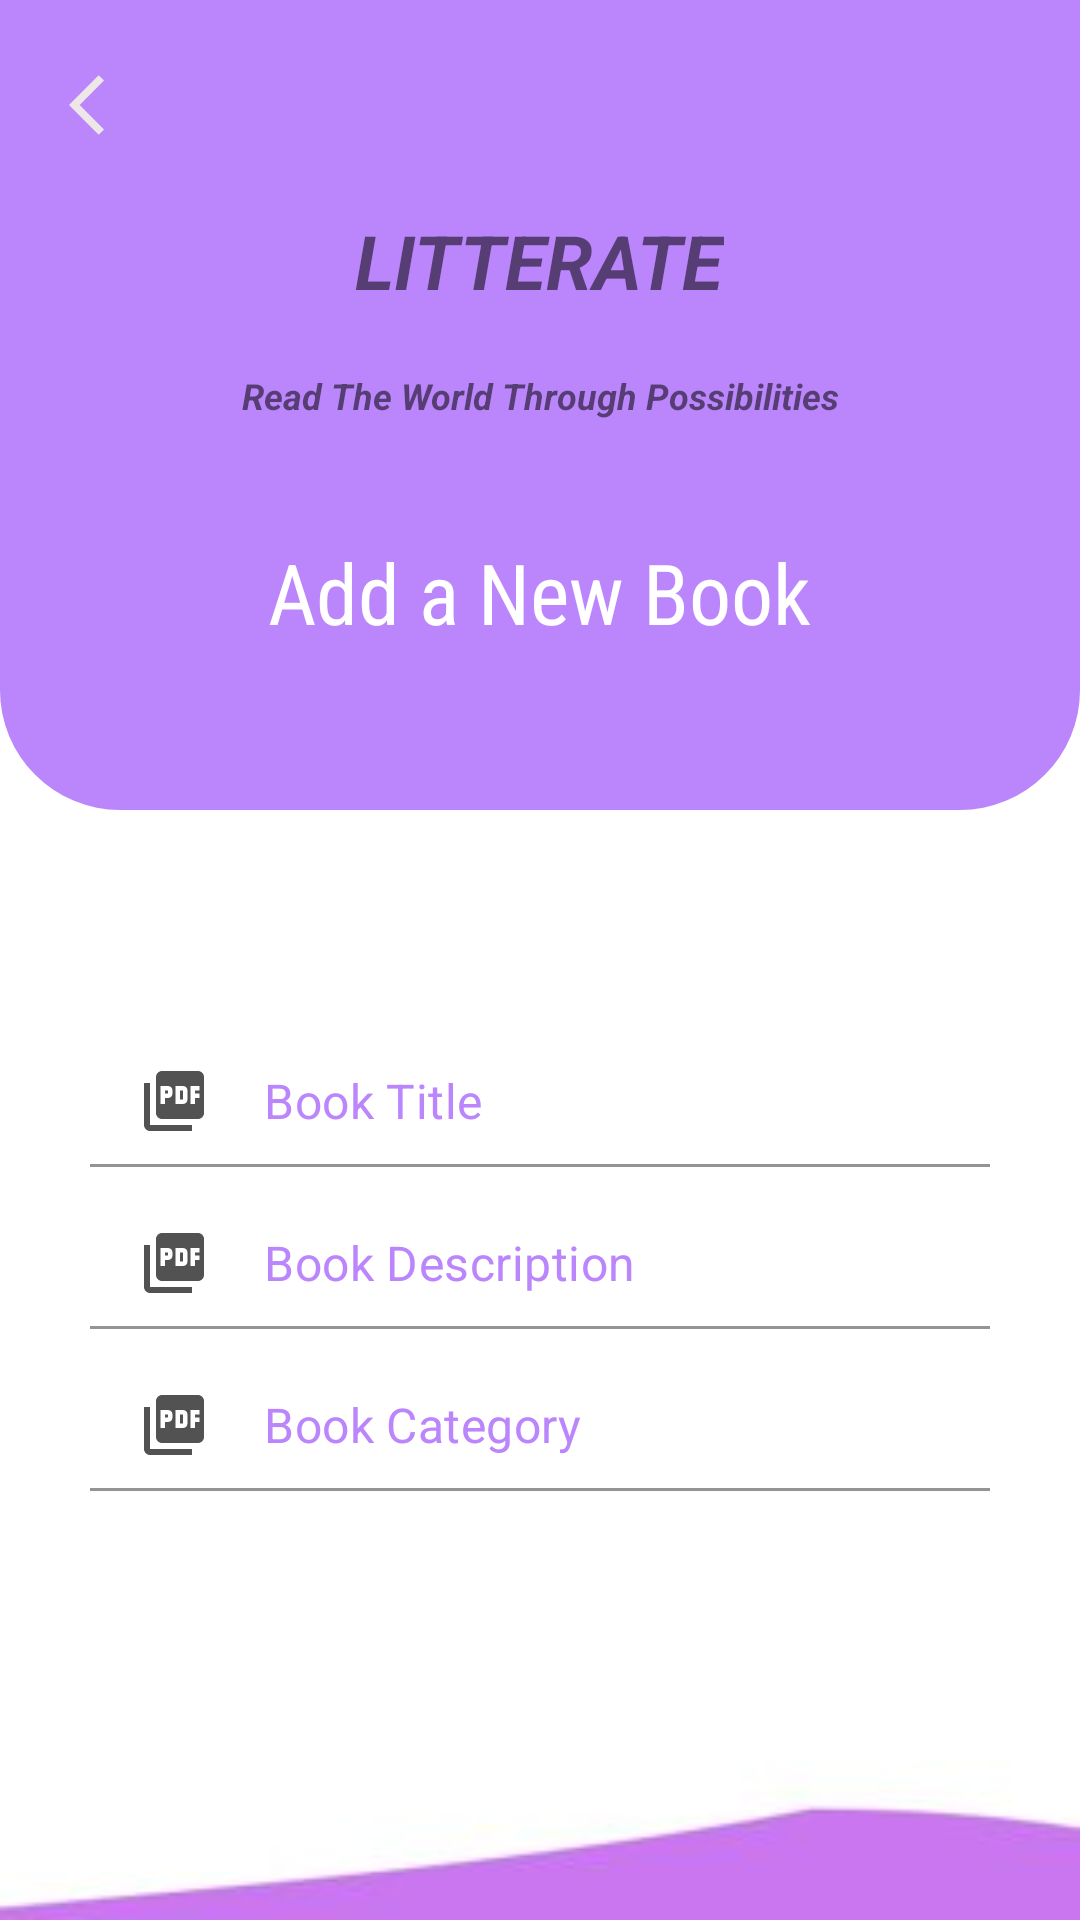

Icon click points for this 1080 x 1920 phone screenshot, format (x=x, y=y):
back: (x=86, y=105)
